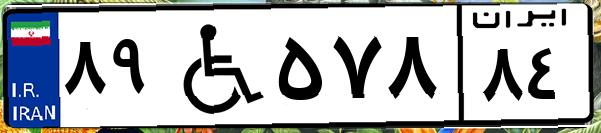4: (525, 38, 570, 115)
5: (270, 28, 330, 110)
7: (330, 28, 385, 110)
8: (385, 28, 445, 110), (57, 26, 110, 100), (475, 38, 525, 113)
9: (110, 28, 158, 98)
ژ (معلولین و جانبازان): (158, 12, 270, 120)
